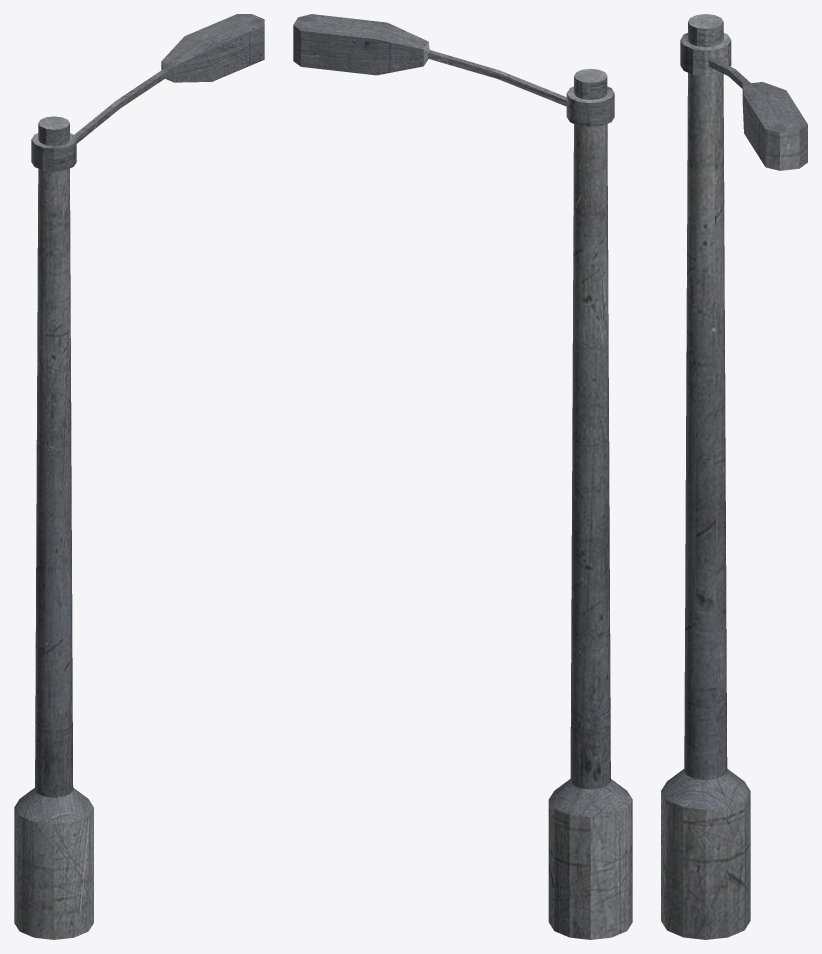
File: Streetlight.FBX
3 renders of one model, left to right at view 1: azimuth 30°, elevation 25°; view 2: azimuth 150°, elevation 25°; view 3: azimuth 270°, elevation 25°, orthographic. The views are drawn at different scales.
Parts seen in each view (by area): view 1: Cylinder001; view 2: Cylinder001; view 3: Cylinder001.
Boxes of the visible parts, x1,y1,x2,y2 form: Cylinder001: (14, 14, 264, 939); Cylinder001: (293, 14, 632, 939); Cylinder001: (661, 14, 807, 939).
Size of the model in its own units: 220 by 620 by 89.54.
1 material, 1 textured.
